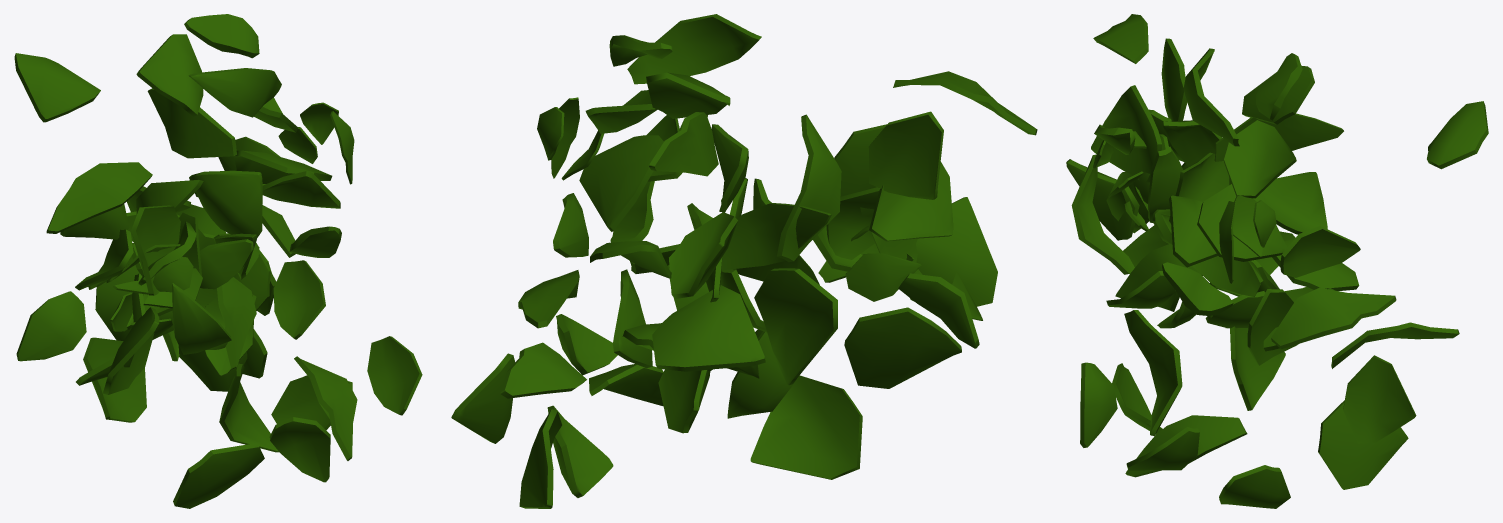
File: tree_leaves_3.fbx
The picture shows the model from 3 angles, left to right: view 1: azimuth 30°, elevation 25°; view 2: azimuth 150°, elevation 25°; view 3: azimuth 270°, elevation 25°; orthographic projection. The views are drawn at different scales.
Parts seen in each view (by area): view 1: TREE1, polySurface44; view 2: TREE1, polySurface44; view 3: TREE1, polySurface44.
Boxes of the visible parts, x1,y1,x2,y2 form: TREE1: [14, 14, 422, 482]; polySurface44: [136, 34, 354, 508]; TREE1: [451, 35, 1037, 508]; polySurface44: [537, 14, 862, 479]; TREE1: [1066, 14, 1488, 508]; polySurface44: [1112, 48, 1360, 434].
Bounding box in the file's own units: 3.03 × 3.14 × 2.89.
